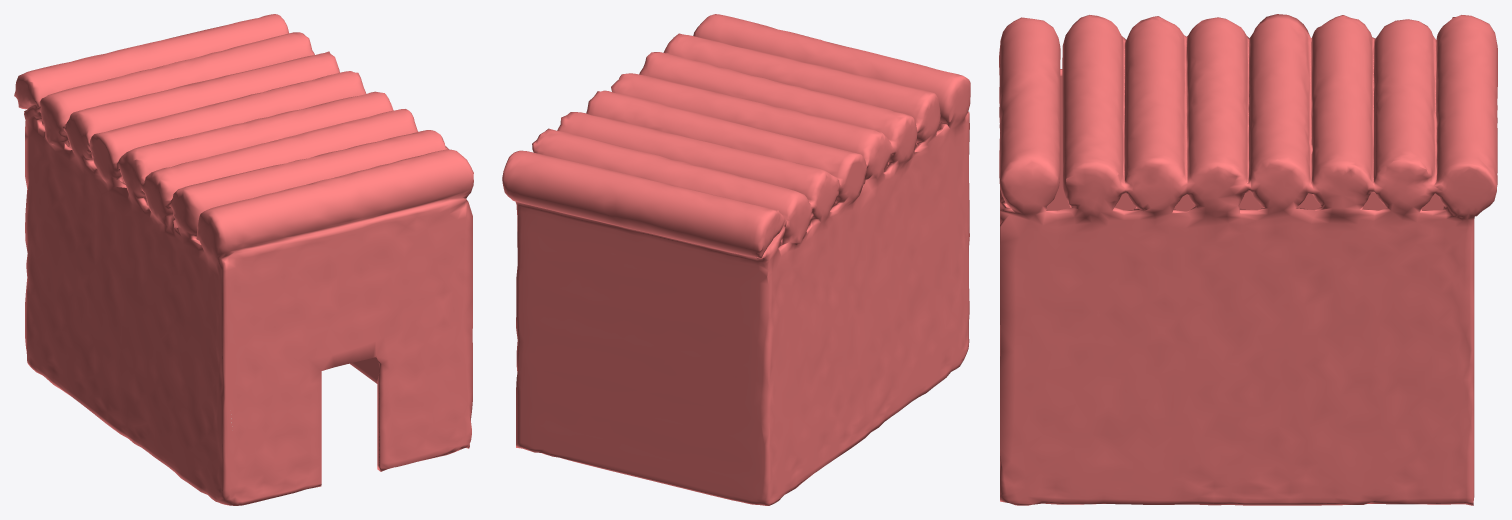
File: Plank_low.fbx
3 views of the same model, side by side, from view 1: azimuth 30°, elevation 25°; view 2: azimuth 150°, elevation 25°; view 3: azimuth 270°, elevation 25° (orthographic). The views are drawn at different scales.
Visible parts, largest first — view 1: Plank_low; view 2: Plank_low; view 3: Plank_low.
Boxes of the visible parts, x1,y1,x2,y2 form: Plank_low: (14, 14, 473, 505); Plank_low: (502, 14, 970, 505); Plank_low: (999, 14, 1497, 505).
Size of the model in its own units: 3.16 by 3.4 by 4.43.
